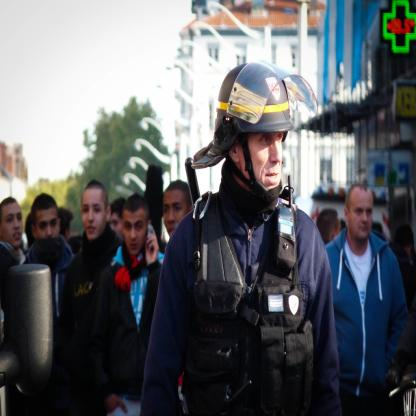Helmet: (208, 62, 310, 207)
